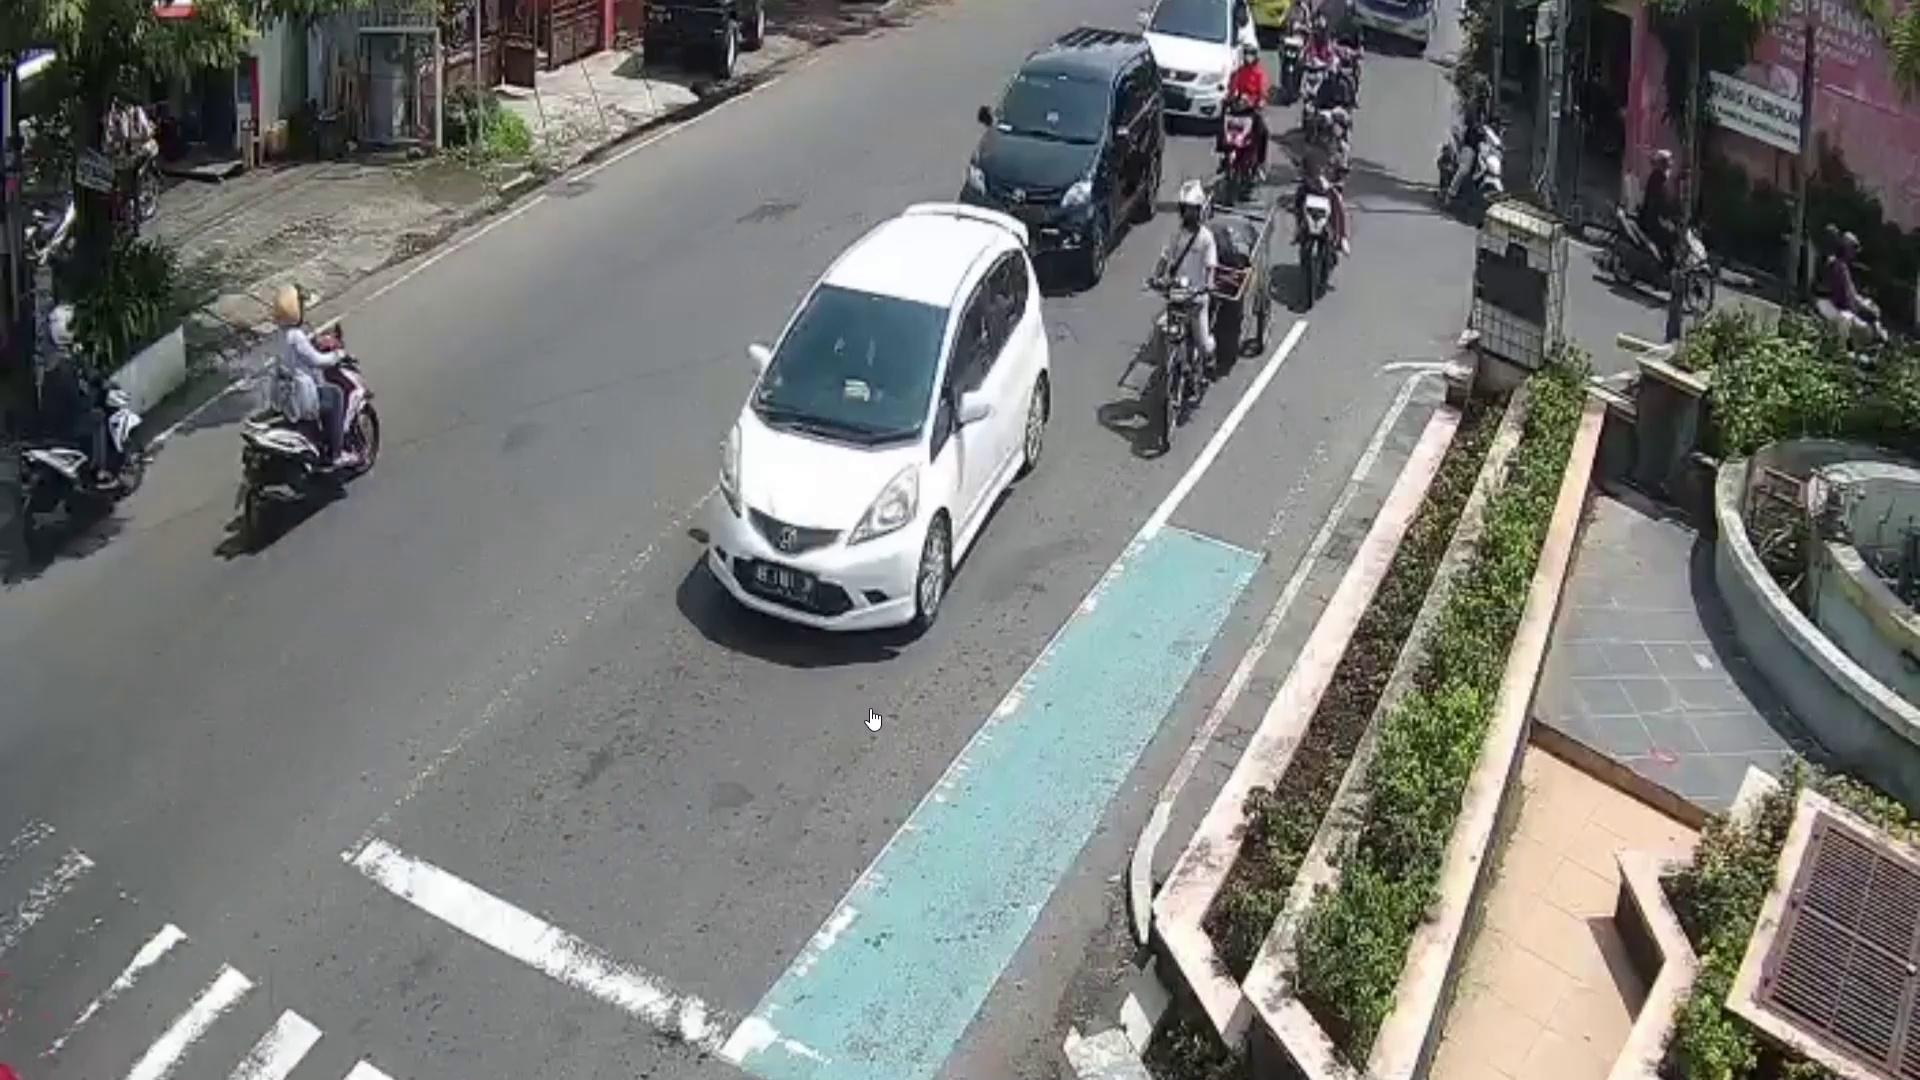car: (698, 202, 1043, 630), (968, 24, 1159, 276), (1146, 0, 1258, 135)
motorbike: (237, 316, 388, 535), (18, 361, 156, 563), (1153, 277, 1212, 455), (1609, 198, 1716, 295), (1287, 173, 1337, 323), (1439, 124, 1503, 228), (1218, 90, 1255, 204)
